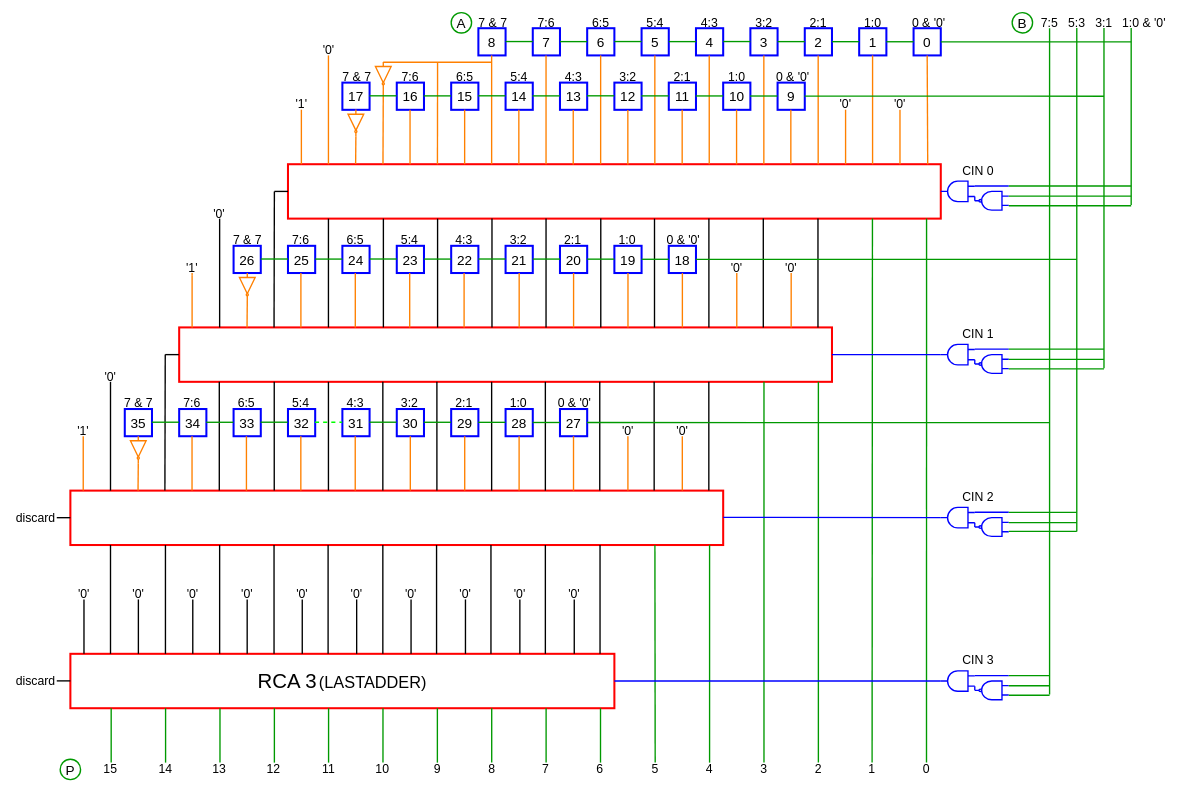
Some shapes in this 1178 by 792 pixel diagram are drawn without their labels. The shapes that lost their labels are listed below. From the top down, each one's box as (x1, y1, x2, y2) in pixels, then its label:
(287, 163, 941, 219): RCA 0 (FIRSTADDER)
(178, 326, 833, 382): RCA 1 (ADDERGEN 1)
(69, 489, 724, 546): RCA 2 (ADDERGEN 2)
